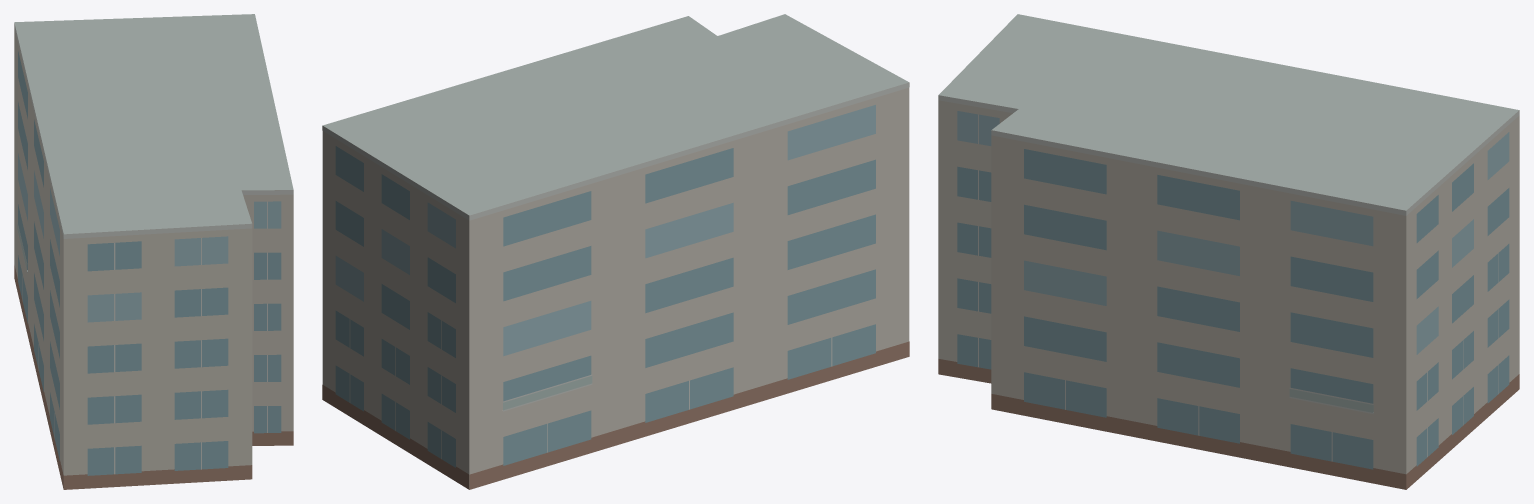
Rendered from survey-upis-32962955.glb.
The picture shows the model from 3 angles, left to right: view 1: azimuth 30°, elevation 25°; view 2: azimuth 150°, elevation 25°; view 3: azimuth 270°, elevation 25°; orthographic projection. The views are drawn at different scales.
Visible parts, largest first — view 1: survey-upis-32962955.tmp; view 2: survey-upis-32962955.tmp; view 3: survey-upis-32962955.tmp.
Boxes of the visible parts, <box> form: survey-upis-32962955.tmp: <box>14,14,293,489</box>; survey-upis-32962955.tmp: <box>322,14,909,489</box>; survey-upis-32962955.tmp: <box>938,14,1519,489</box>.
Bounding box in the file's own units: 19.88 × 13.15 × 24.82.
